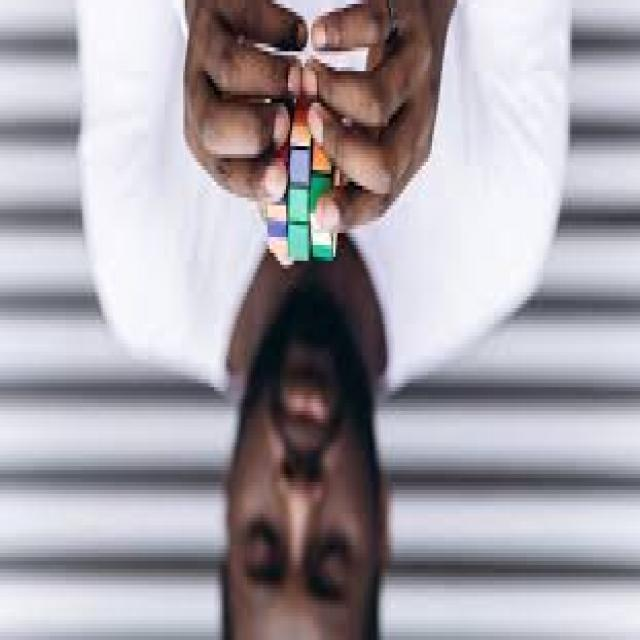cube: (266, 104, 336, 259)
